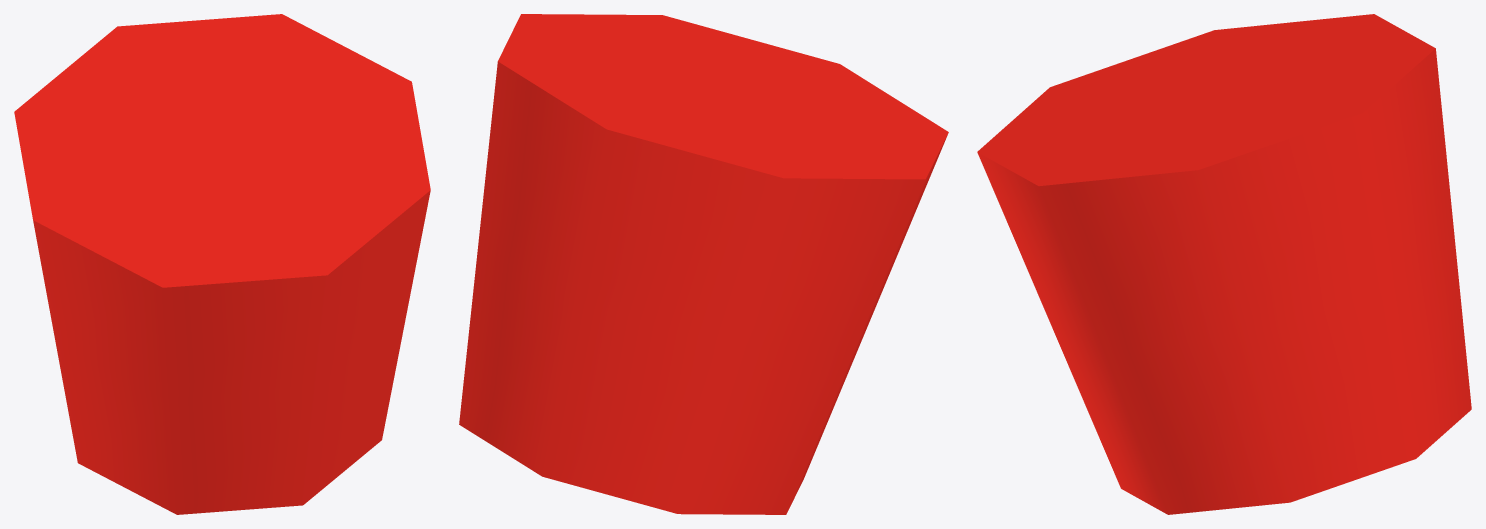
Rendered from balde_boiando.glb.
The picture shows the model from 3 angles, left to right: view 1: azimuth 30°, elevation 25°; view 2: azimuth 150°, elevation 25°; view 3: azimuth 270°, elevation 25°; orthographic projection. The views are drawn at different scales.
Parts seen in each view (by area): view 1: _MeshInstance3D_5969_0; view 2: _MeshInstance3D_5969_0; view 3: _MeshInstance3D_5969_0.
Boxes of the visible parts, box(x1,y1,x2,y2) form: _MeshInstance3D_5969_0: box(14, 14, 430, 514); _MeshInstance3D_5969_0: box(459, 14, 948, 514); _MeshInstance3D_5969_0: box(977, 14, 1471, 514).
Size of the model in its own units: 0.3367 by 0.3394 by 0.3558.
